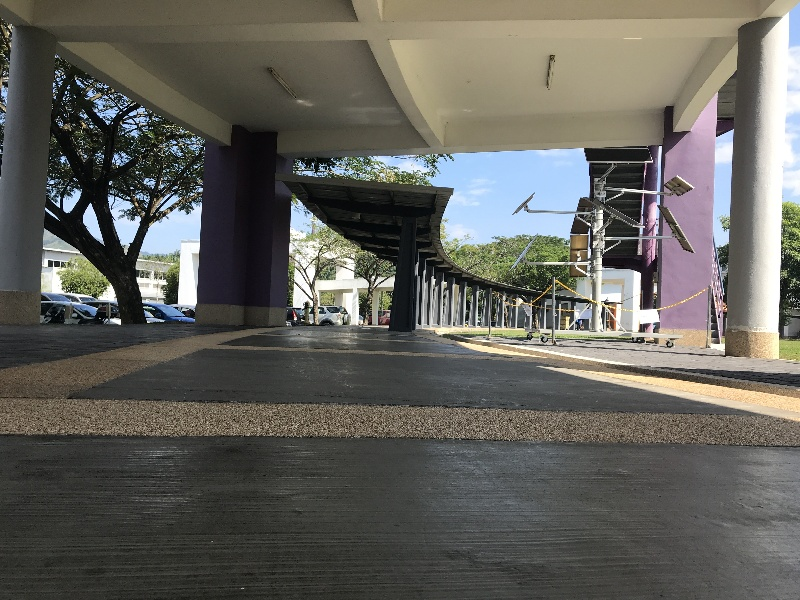Block D Pillar 5: (9, 6, 800, 543)
pillar: (187, 108, 311, 357), (726, 8, 786, 372), (663, 92, 717, 361), (13, 17, 56, 335), (390, 209, 427, 335)
